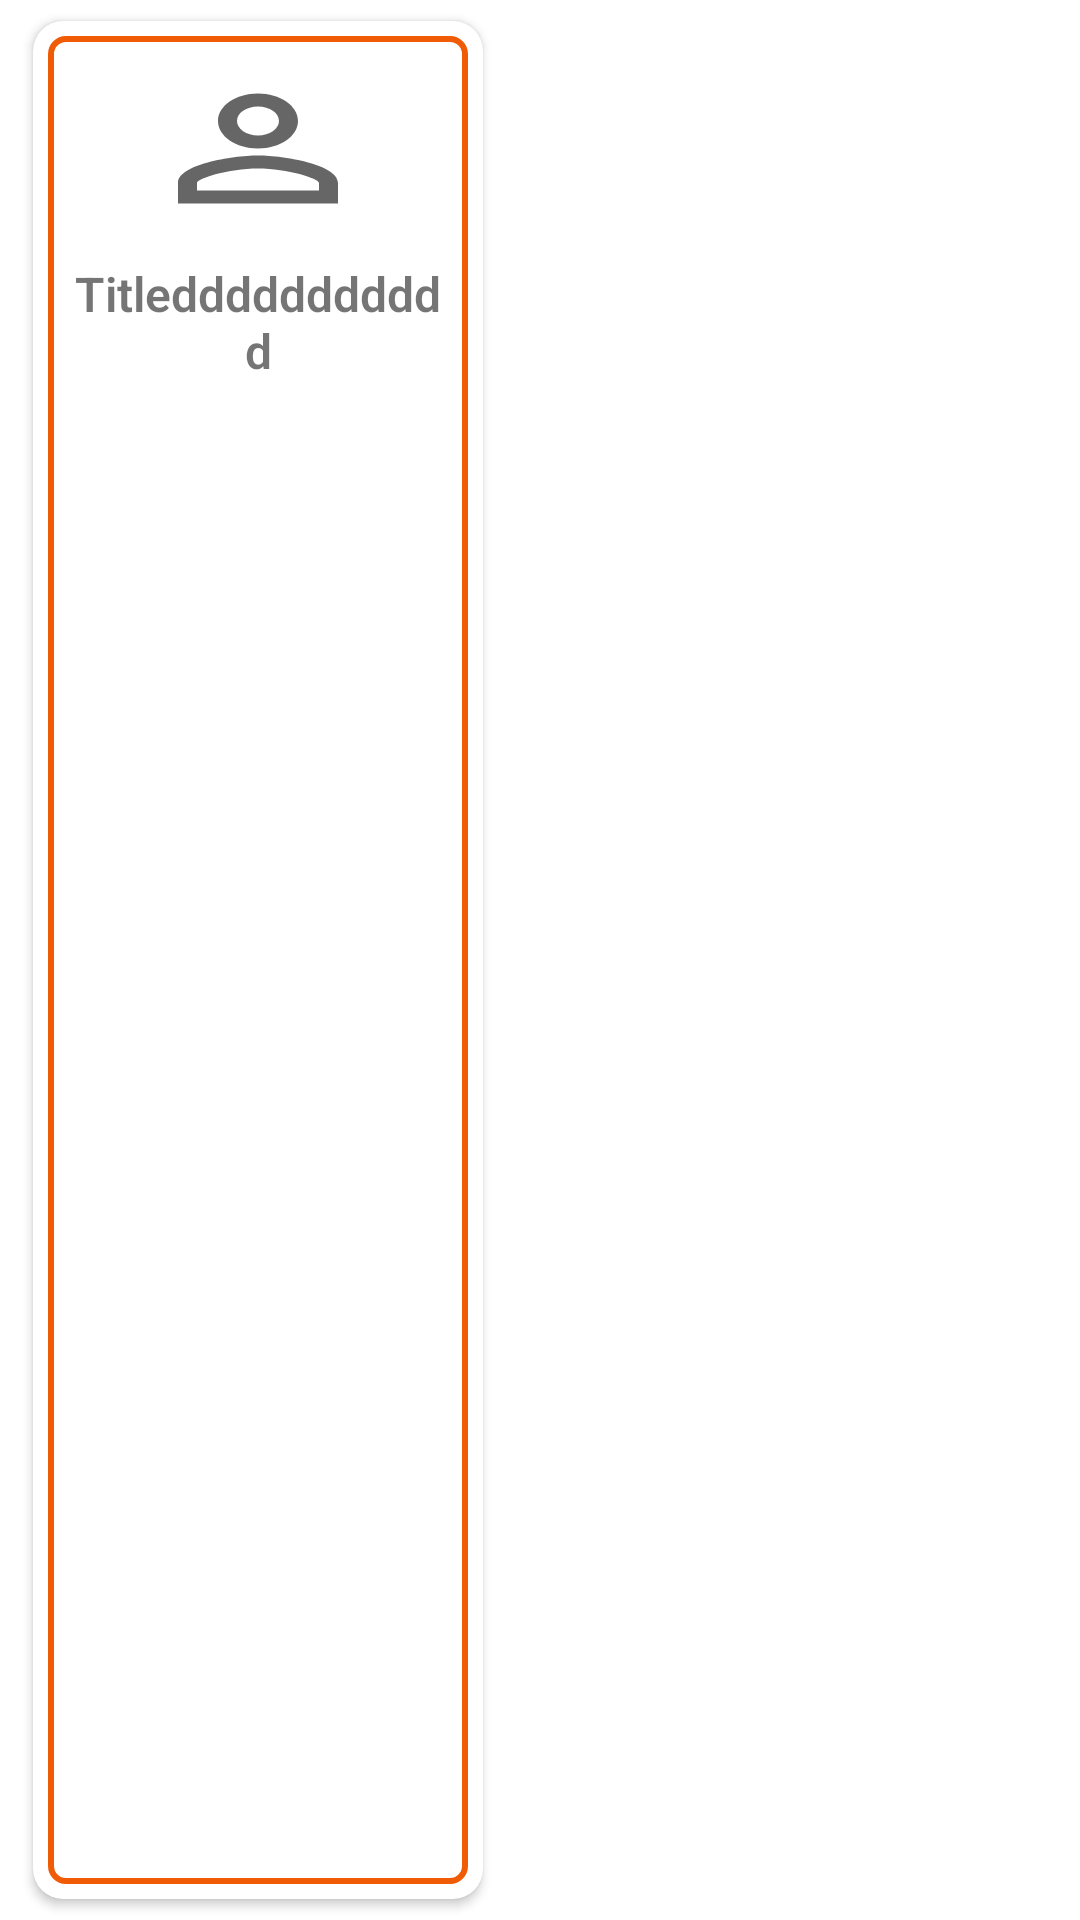

Icon click points for this 1080px x 1920px phone screenshot, format point (x, y):
perm identity: point (258, 148)
